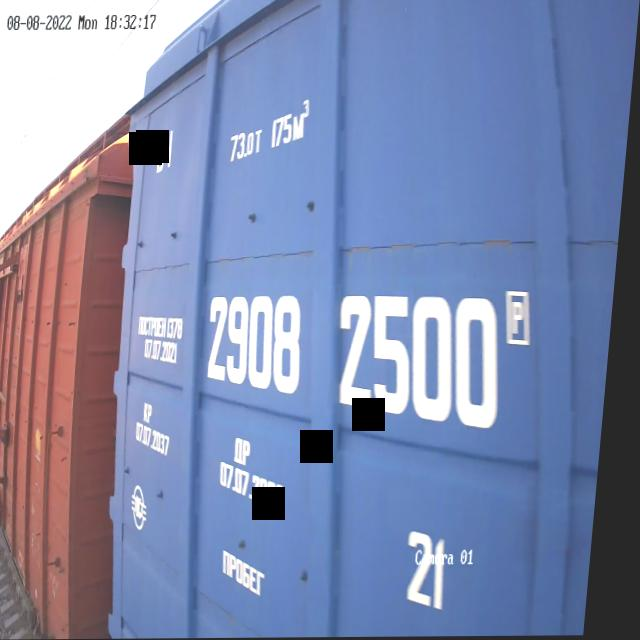boxcar: (88, 0, 640, 639), (0, 94, 156, 640)
